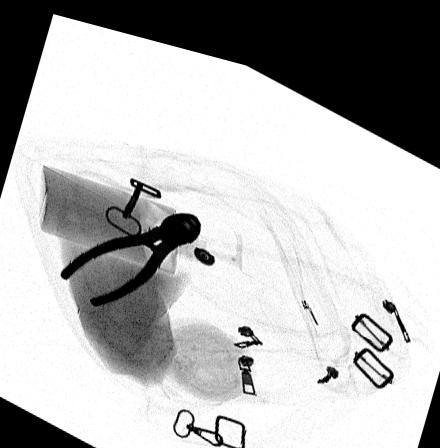Pliers: (56, 202, 202, 303)
